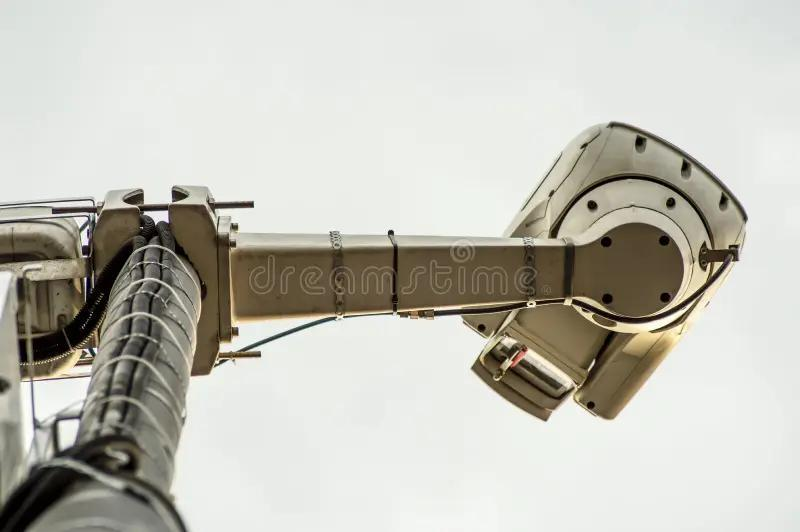Monitor: (1, 118, 749, 527)
